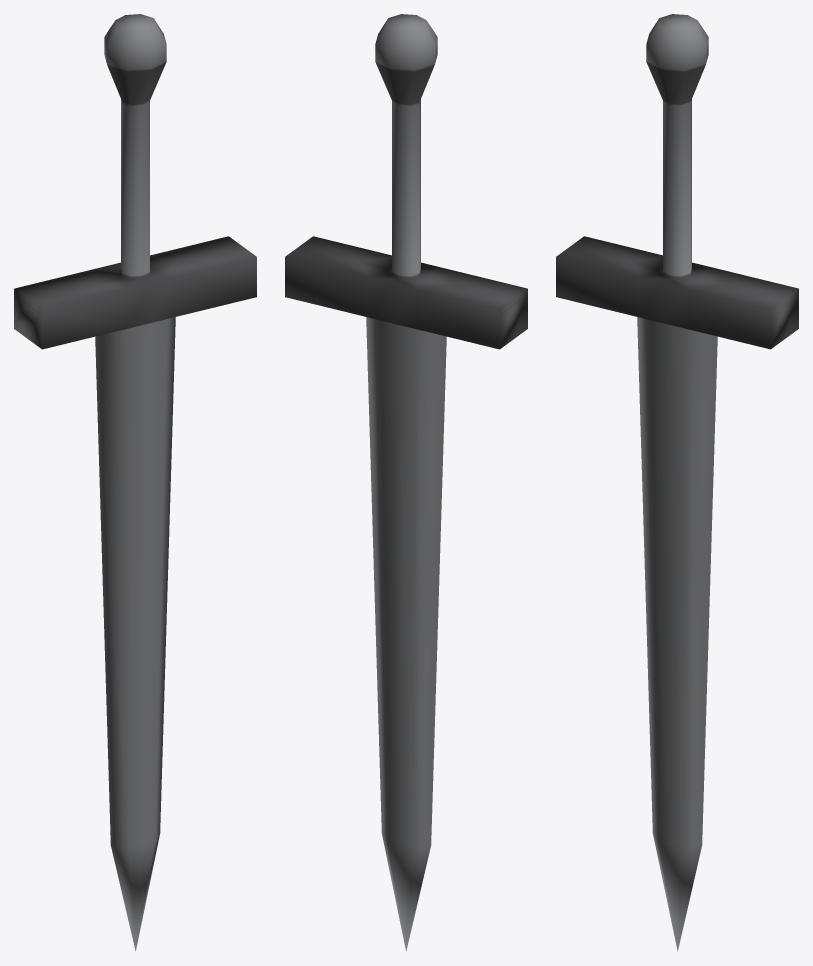
Rendered from Sword.fbx.
3 renders of one model, left to right at view 1: azimuth 30°, elevation 25°; view 2: azimuth 150°, elevation 25°; view 3: azimuth 330°, elevation 25°, orthographic.
Parts seen in each view (by area): view 1: warrior.001; view 2: warrior.001; view 3: warrior.001.
Boxes of the visible parts, x1,y1,x2,y2 form: warrior.001: (14,14,256,951); warrior.001: (285,14,527,951); warrior.001: (556,14,798,951).
Bounding box in the file's own units: 0.4808 × 1.99 × 0.1231.
